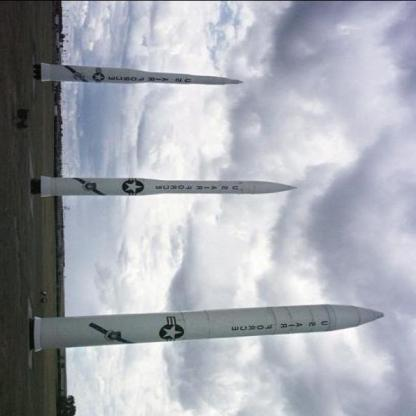MIL_TBM: (23, 303, 390, 355), (29, 171, 303, 203), (34, 60, 250, 89)
